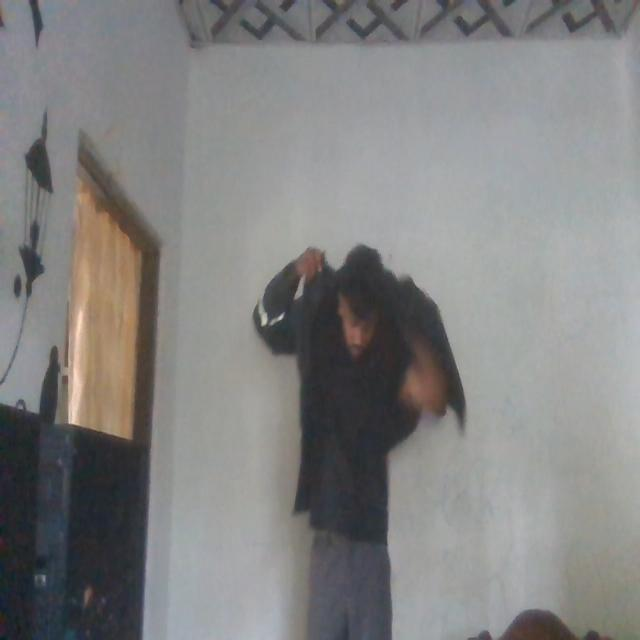Jacket_Wearer: (255, 255, 467, 511)
Person: (275, 243, 452, 640)
